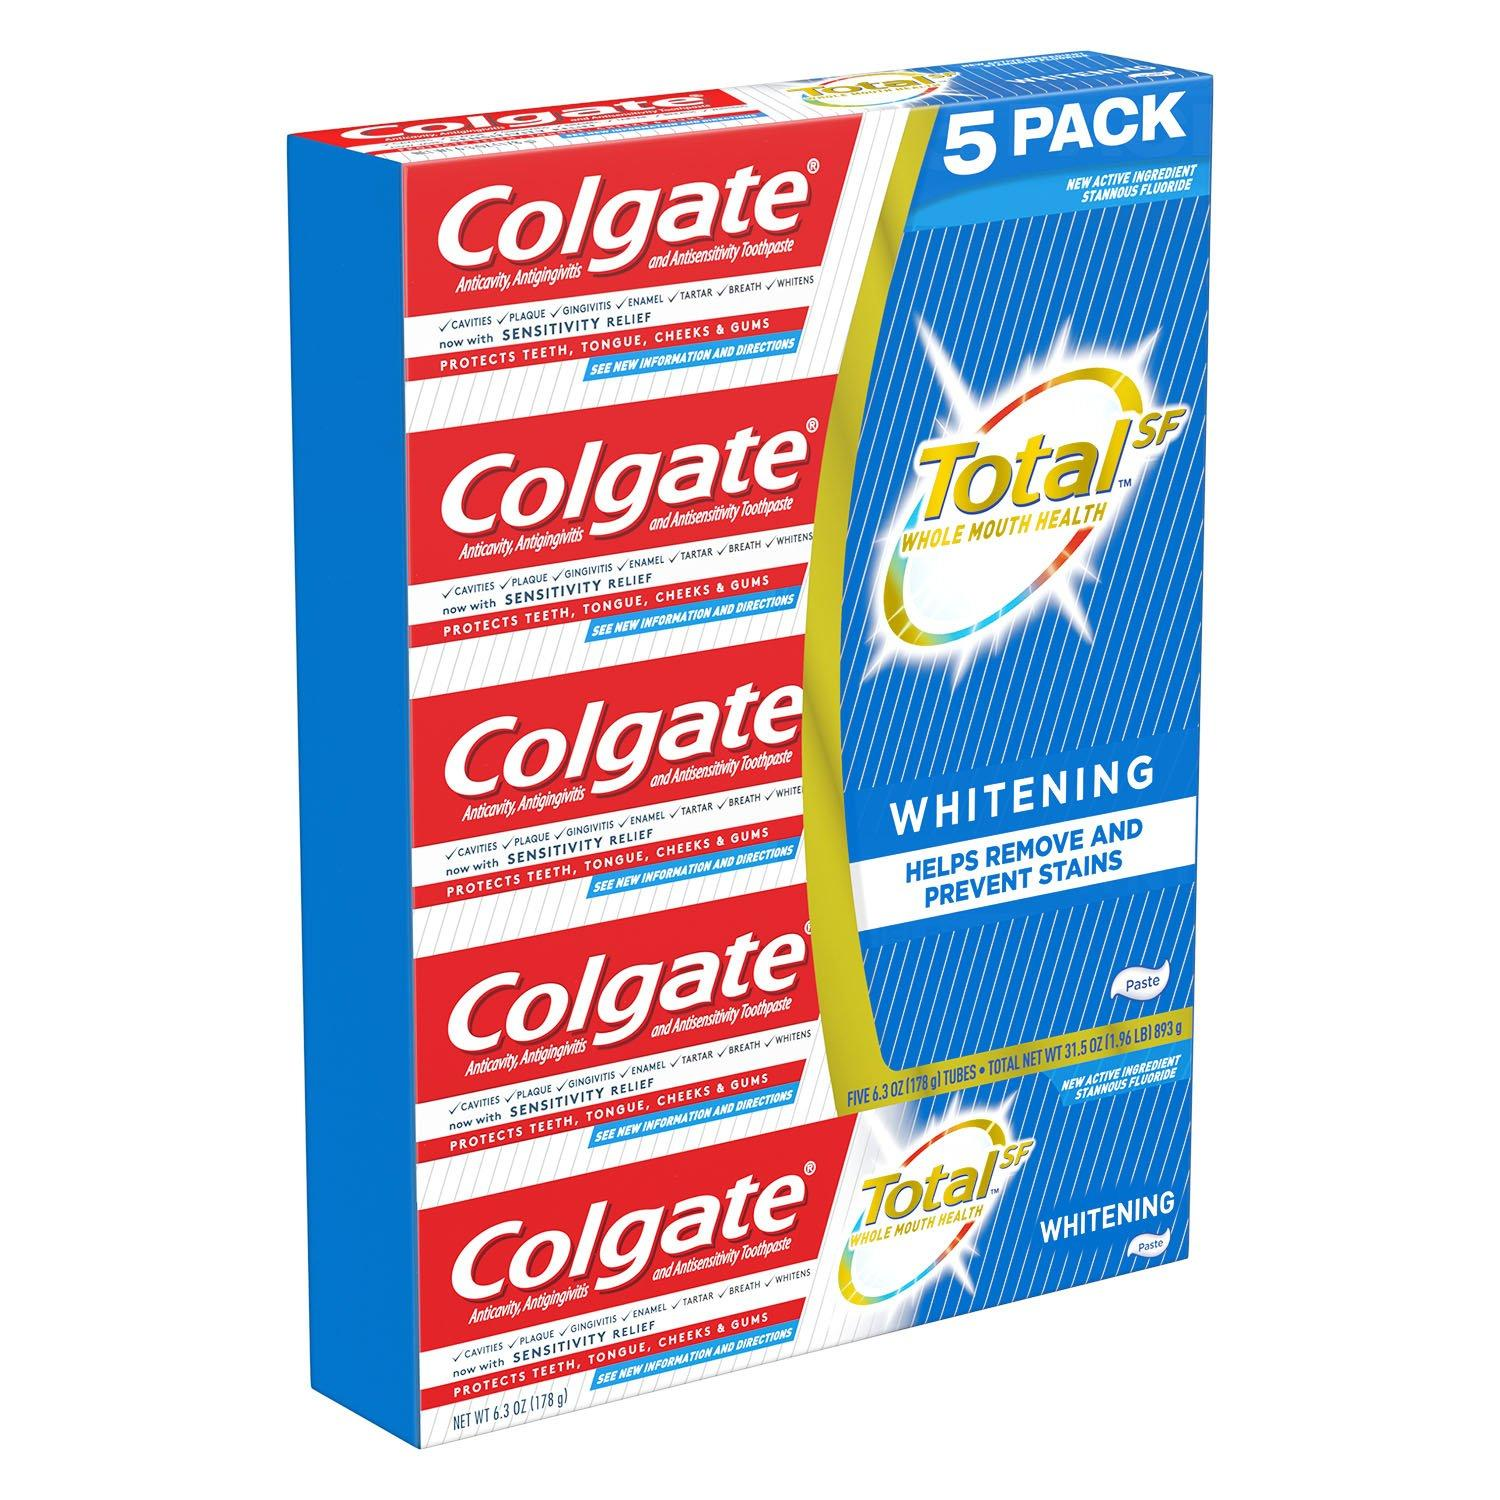toothpaste: (295, 130, 1217, 1401)
